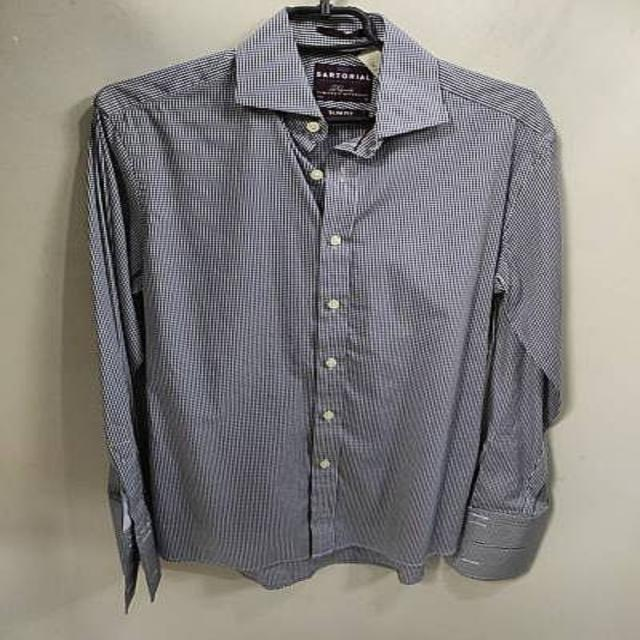SHIRT: (46, 0, 590, 618)
